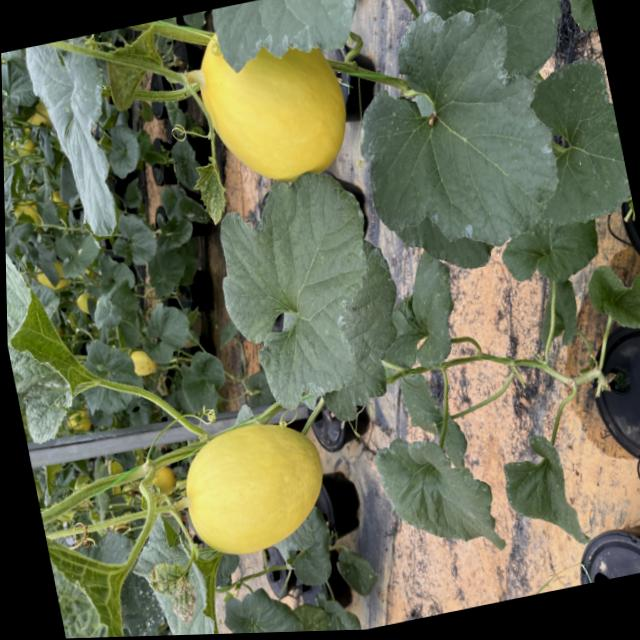CMV: (94, 20, 177, 121)
SLCV: (41, 505, 142, 639), (187, 155, 232, 227)
alternaria leaf blight: (144, 544, 209, 633)
downy mildew: (202, 163, 397, 420), (5, 213, 111, 452)
healthy: (21, 31, 137, 249), (525, 52, 636, 236), (372, 417, 503, 564), (376, 244, 466, 373), (495, 209, 605, 292), (218, 575, 304, 634), (581, 253, 640, 338)
powdery mildew: (336, 0, 581, 294), (496, 426, 588, 559)
